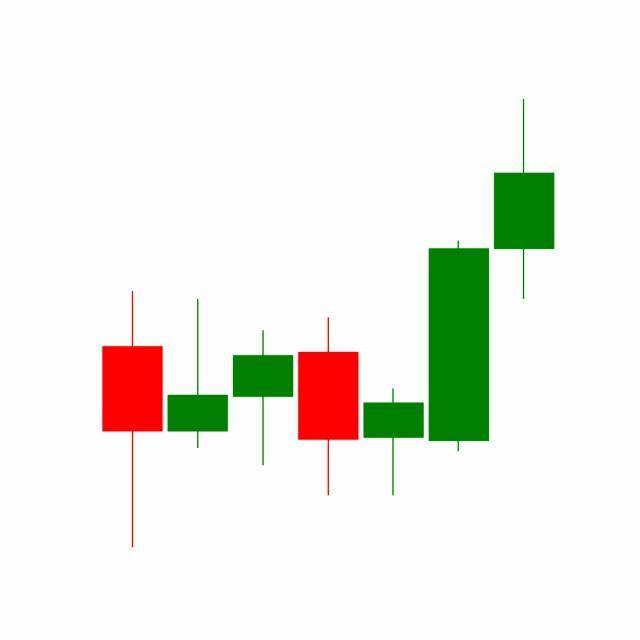Three Inside Up-Down: (295, 239, 492, 500)
